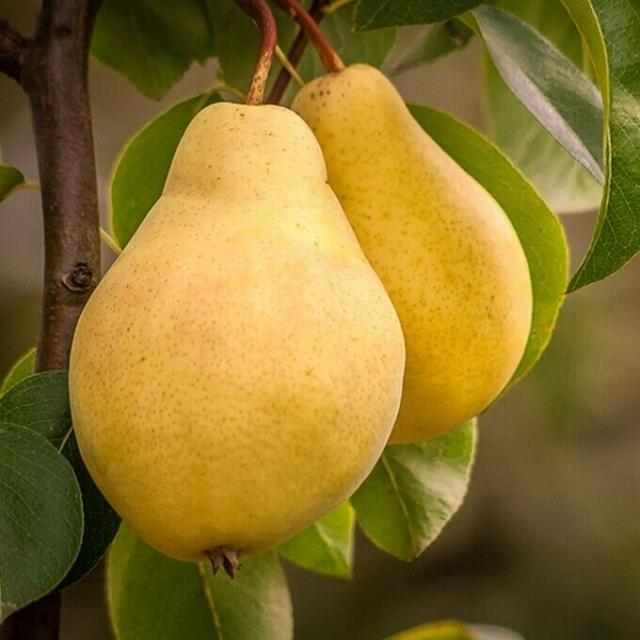pear: (65, 59, 538, 574), (289, 60, 535, 446)
